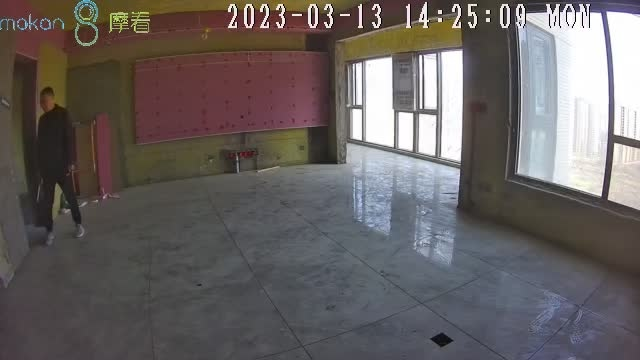people: (36, 86, 85, 244)
window: (512, 6, 640, 212), (345, 50, 463, 163)
